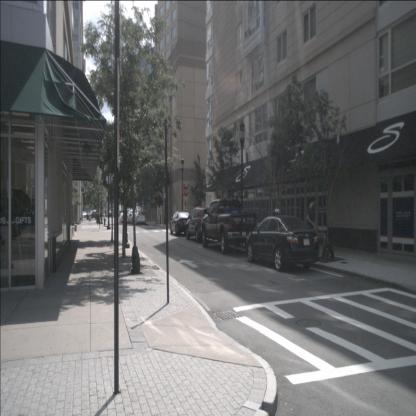human-pedestrian-adult: (306, 196, 320, 260), (29, 196, 37, 236)
vehicle-car: (245, 214, 320, 272), (186, 206, 214, 243), (170, 210, 193, 236), (134, 210, 146, 224), (126, 212, 136, 224), (119, 212, 129, 224), (79, 211, 89, 219)
vehicle-truck: (200, 198, 258, 254), (87, 210, 100, 220)
